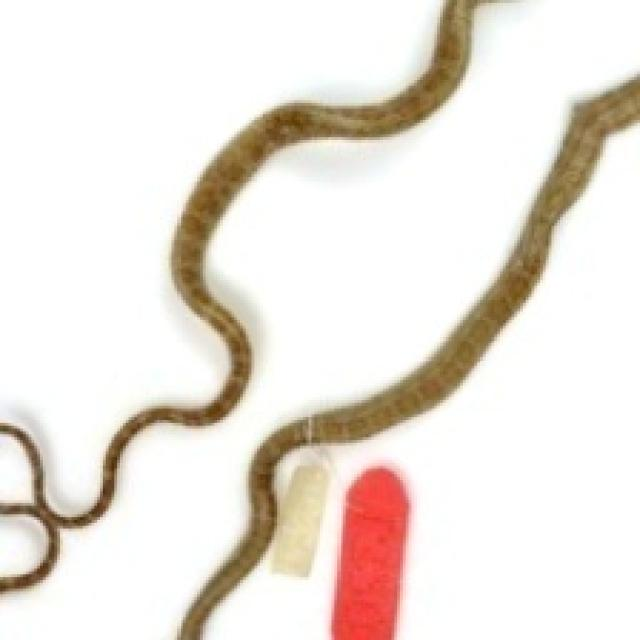mullers wolf snake: (0, 0, 637, 637), (0, 0, 440, 509), (206, 126, 637, 637)
